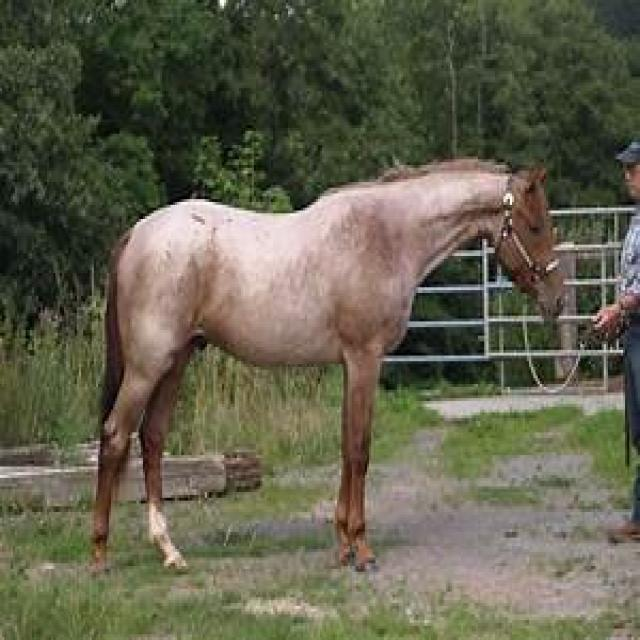horse: (92, 159, 565, 577)
